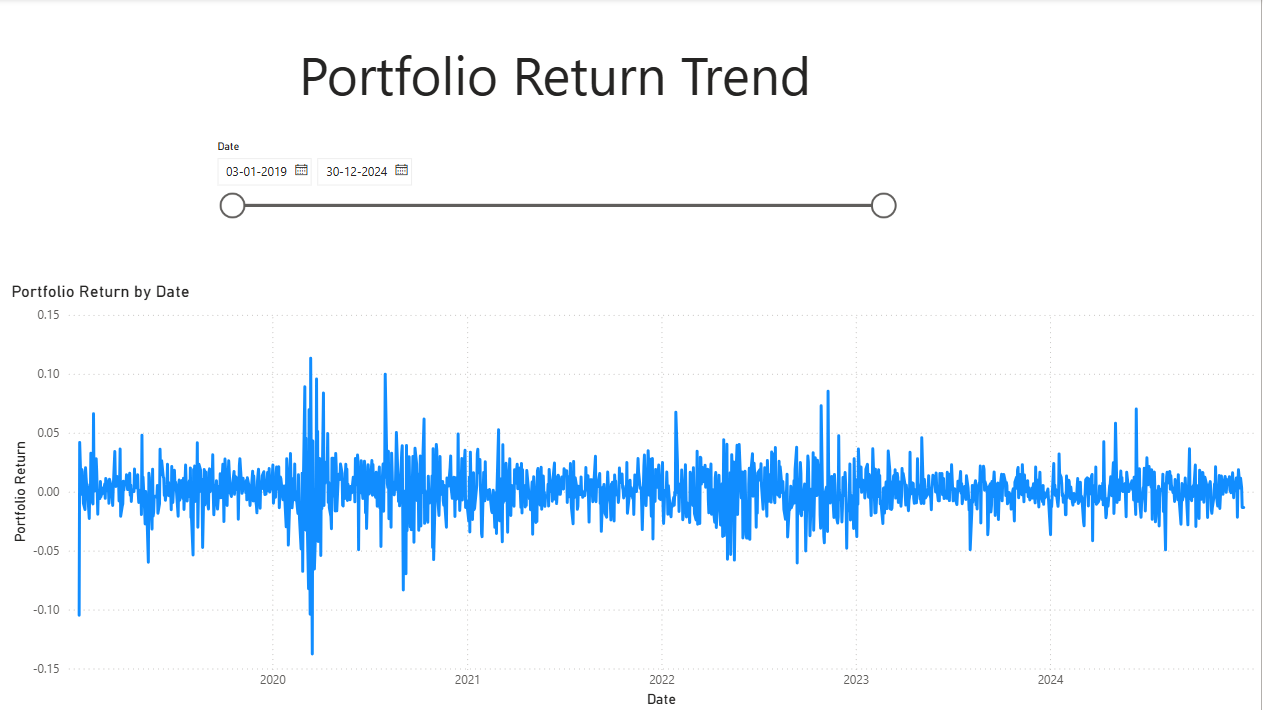

What the dashboard file says about the page in this screenshot:
{"tool":"powerbi","page":{"name":"Portfolio Return trend ","canvas":[1280,720],"ordinal":0},"visuals":[{"type":"textbox","box":[0,34.5,1134.5,84.5],"z":0},{"type":"lineChart","fields":{"Category":["main_returns.Date"],"Y":["Calendar.Portfolio Return"]},"box":[14,286,1266.7,433.3],"z":1000},{"type":"slicer","fields":{"Values":["main_returns.Date"]},"box":[213.8,137.9,706.9,96.6],"z":1001}]}

Visuals, with their boxes in screenshot pixels (x1, y1, x2, y2), scaled from the page's 1280x720 canvas onto the 1263x710 screenshot:
textbox: bbox=(0, 34, 1119, 117)
lineChart - main_returns.Date x Calendar.Portfolio Return: bbox=(14, 282, 1262, 709)
slicer - main_returns.Date: bbox=(211, 136, 908, 231)
